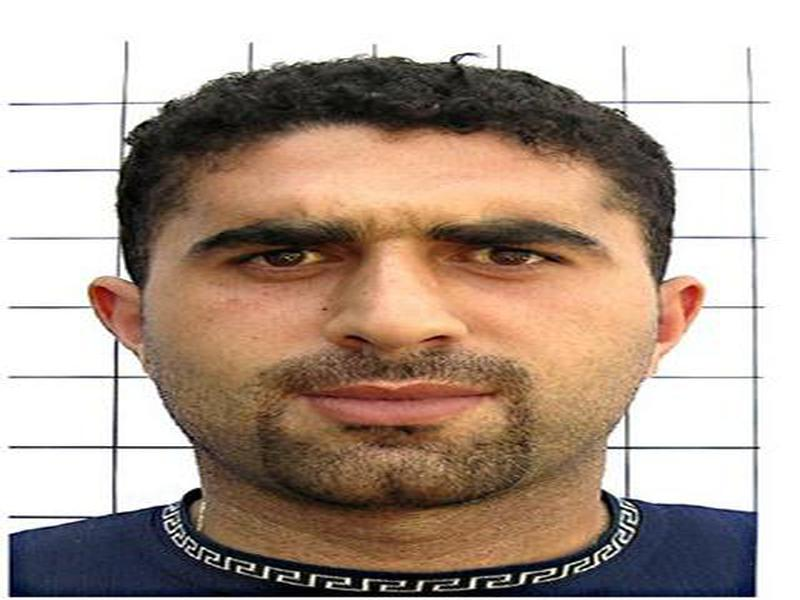without_mask: (146, 131, 653, 510)
